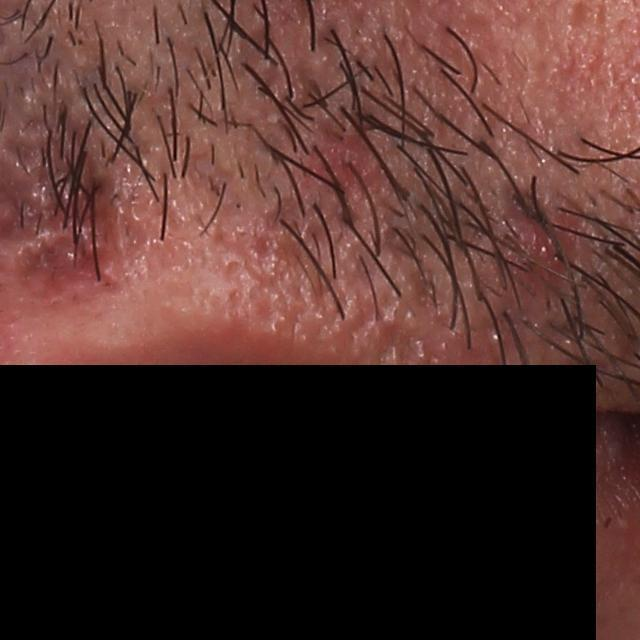atrophic_scar: (19, 231, 117, 310)
